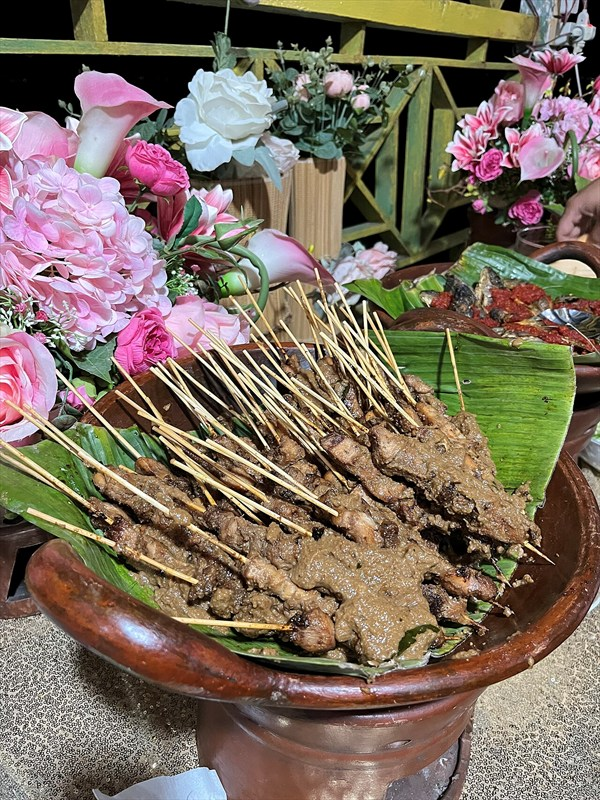Sate Ayam: (50, 39, 501, 661)
